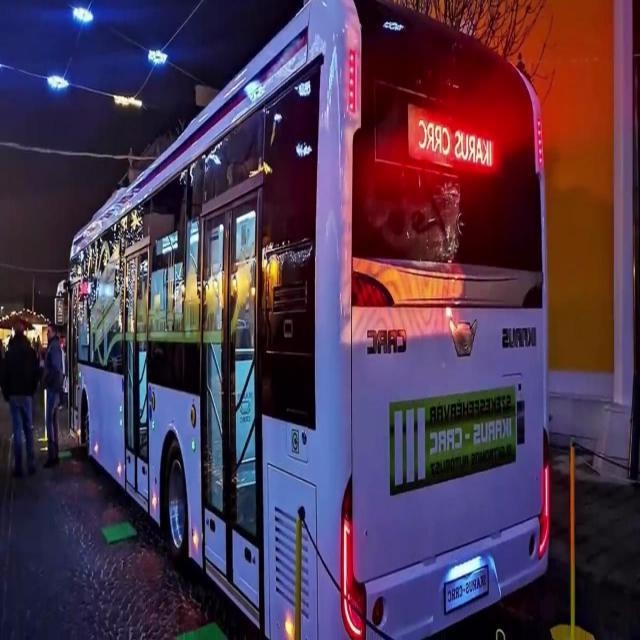bus: (46, 0, 587, 640)
